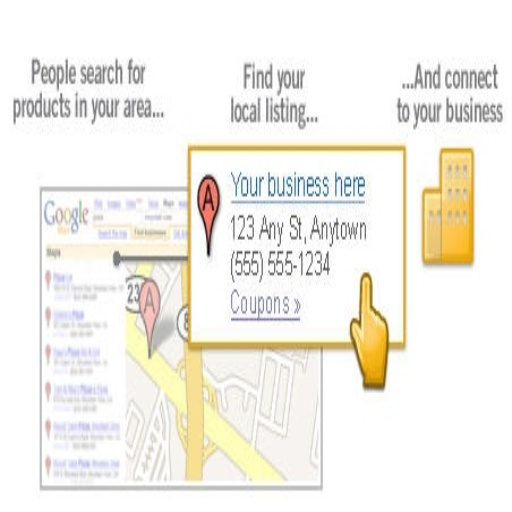hand: (343, 265, 394, 392)
